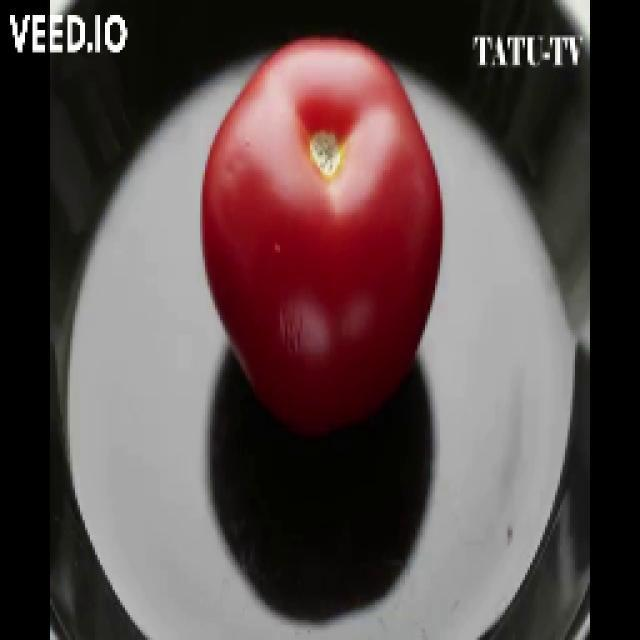tomato: (200, 38, 443, 442)
